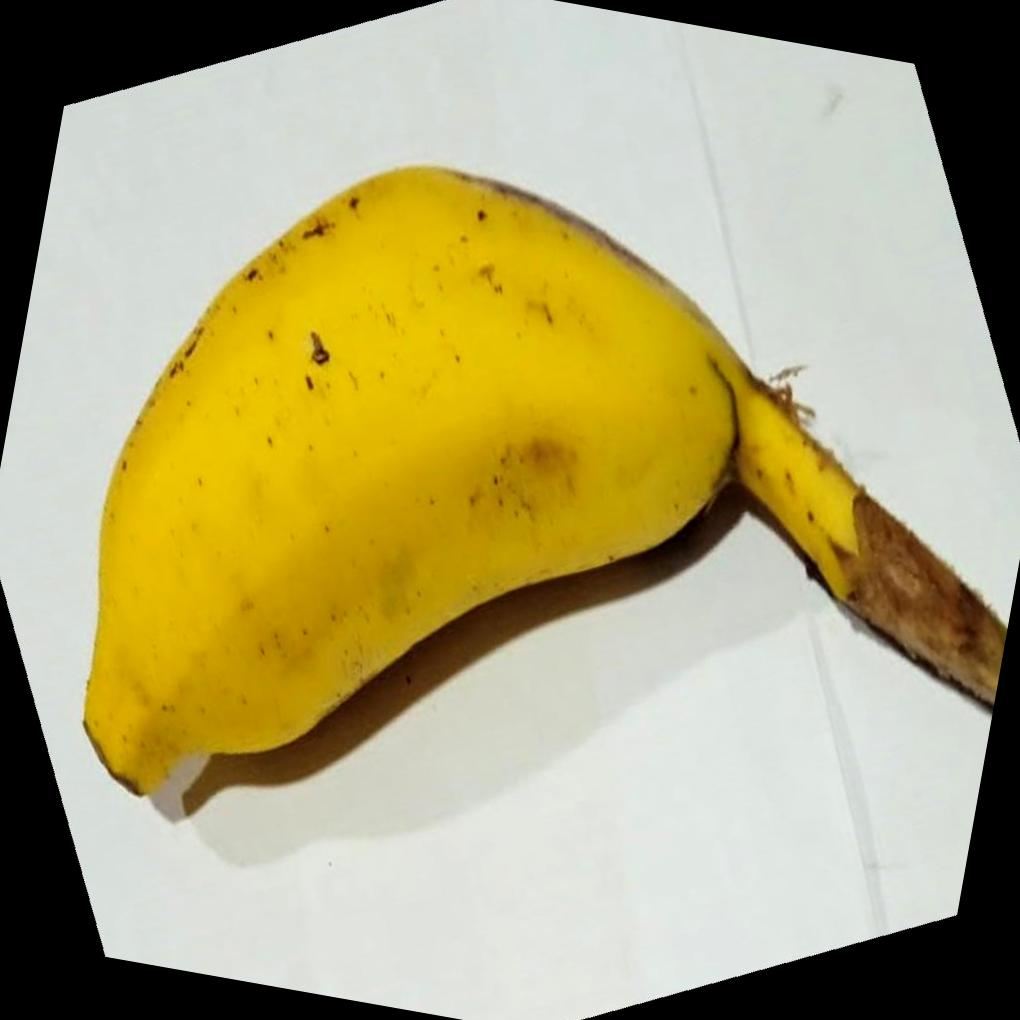Banana Ripe: (8, 94, 1000, 930)
